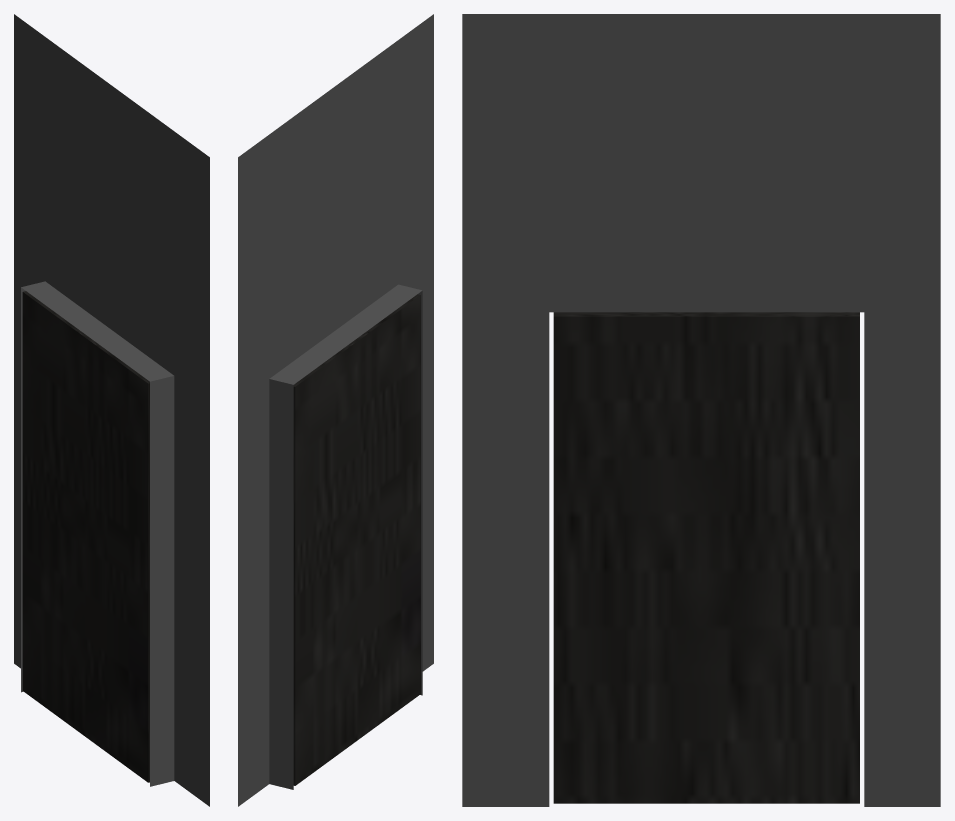
File: doors.fbx
The picture shows the model from 3 angles, left to right: view 1: azimuth 30°, elevation 25°; view 2: azimuth 150°, elevation 25°; view 3: azimuth 270°, elevation 25°; orthographic projection. The views are drawn at different scales.
Parts seen in each view (by area): view 1: Cube.005, Cube.006; view 2: Cube.005, Cube.006; view 3: Cube.005, Cube.006.
Part boxes in pixels (<box>): Cube.005: <box>14,14,209,806</box>; Cube.006: <box>22,291,149,782</box>; Cube.005: <box>238,14,433,806</box>; Cube.006: <box>293,294,420,785</box>; Cube.005: <box>462,14,940,806</box>; Cube.006: <box>553,312,859,803</box>.
Bounding box in the file's own units: 15.79 × 400 × 219.
